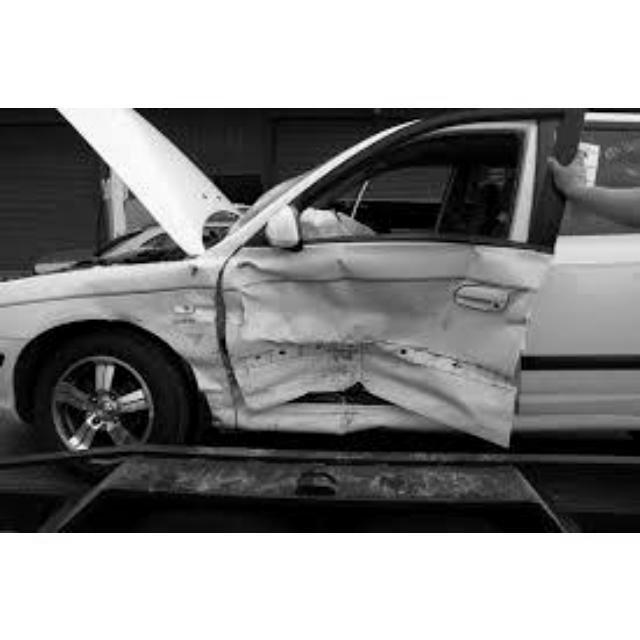bonnet-dent: (46, 202, 236, 280)
doorouter-dent: (229, 196, 519, 435)
fender-dent: (47, 259, 226, 384)
